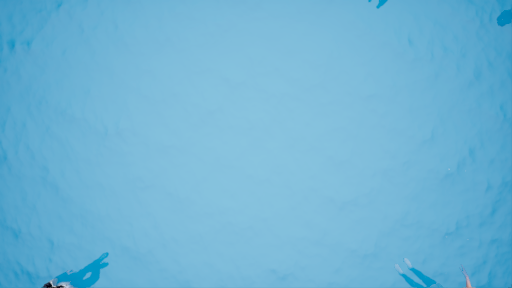person: (41, 254, 114, 288)
